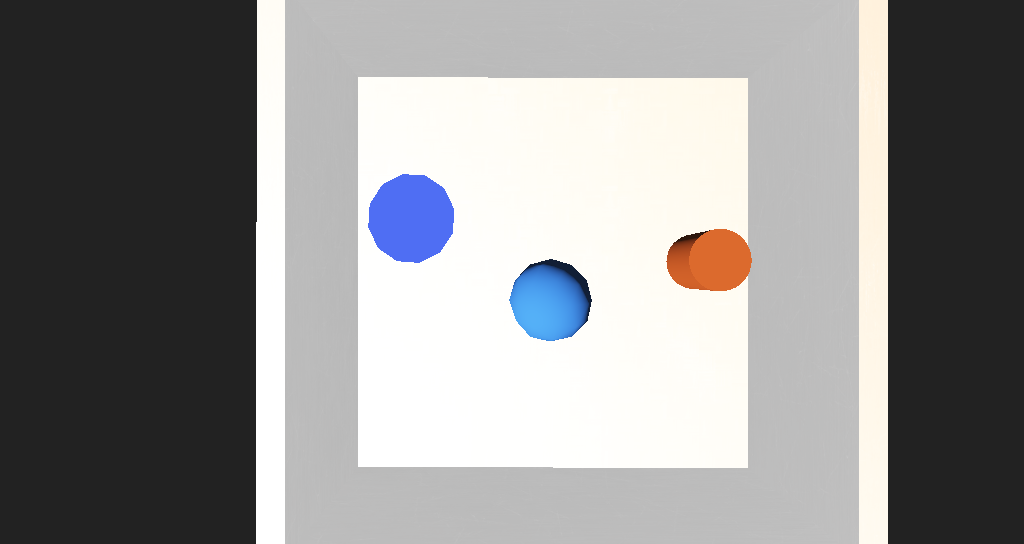cone: (593, 246, 647, 279)
cylinder: (360, 210, 448, 267)
sphere: (475, 265, 536, 308)
